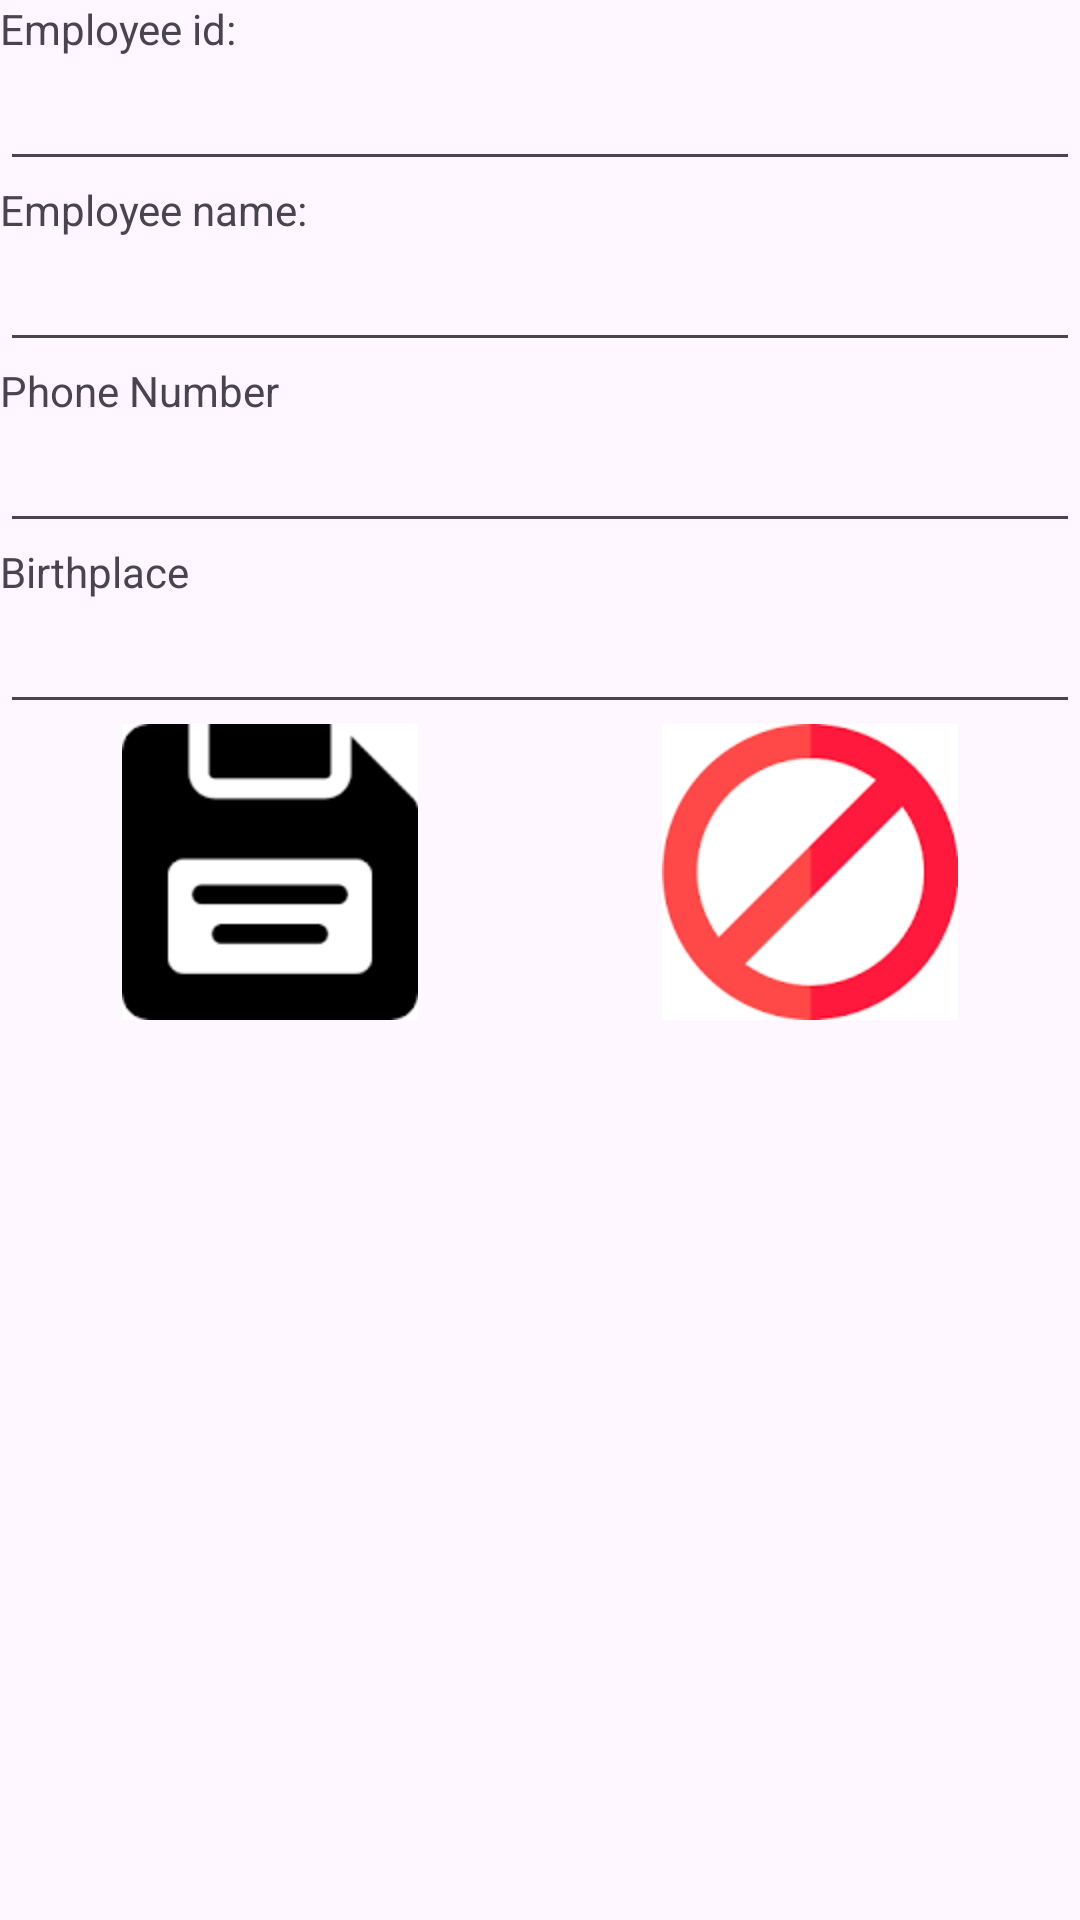

Point at icon controls on the screen. Image size 1080*1920, points as (x=x, y=y).
cancel: (x=810, y=872)
save: (x=270, y=872)
